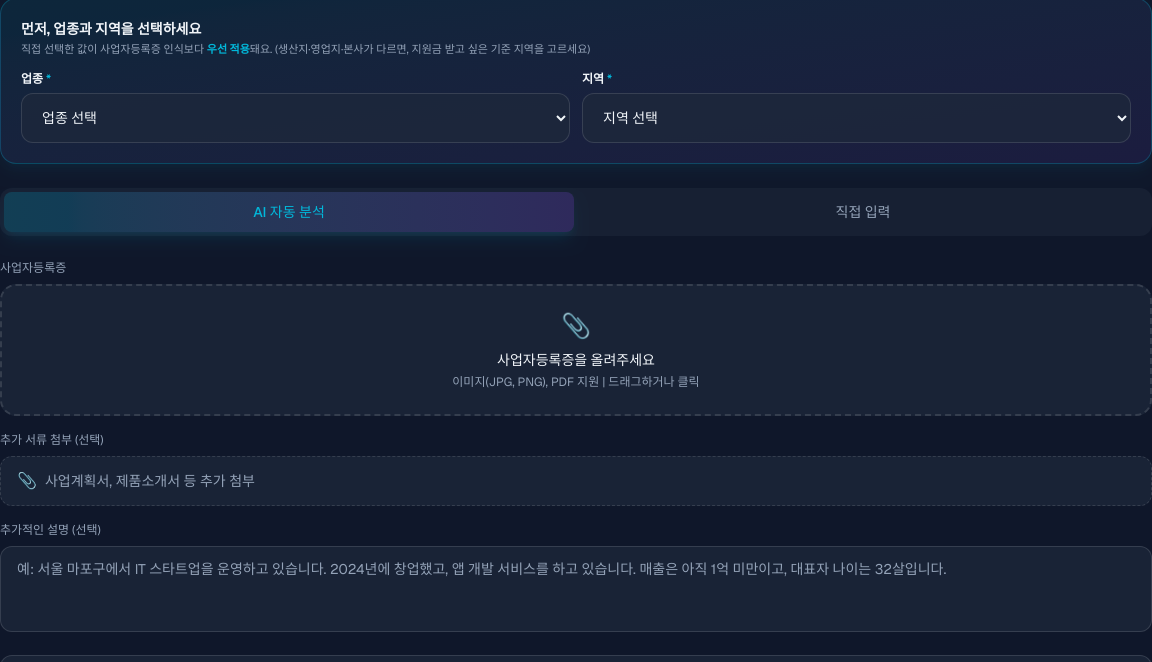
Scenario: ConditionForm: AI 분석 fetch › 분석 응답에 result 없으면 에러 메시지
Replace the text in the text box with placeholder "서울 마포구에서 IT 스타트업" with "테스트" at (576, 589), box [0,546,1151,632]
(page scrolled)
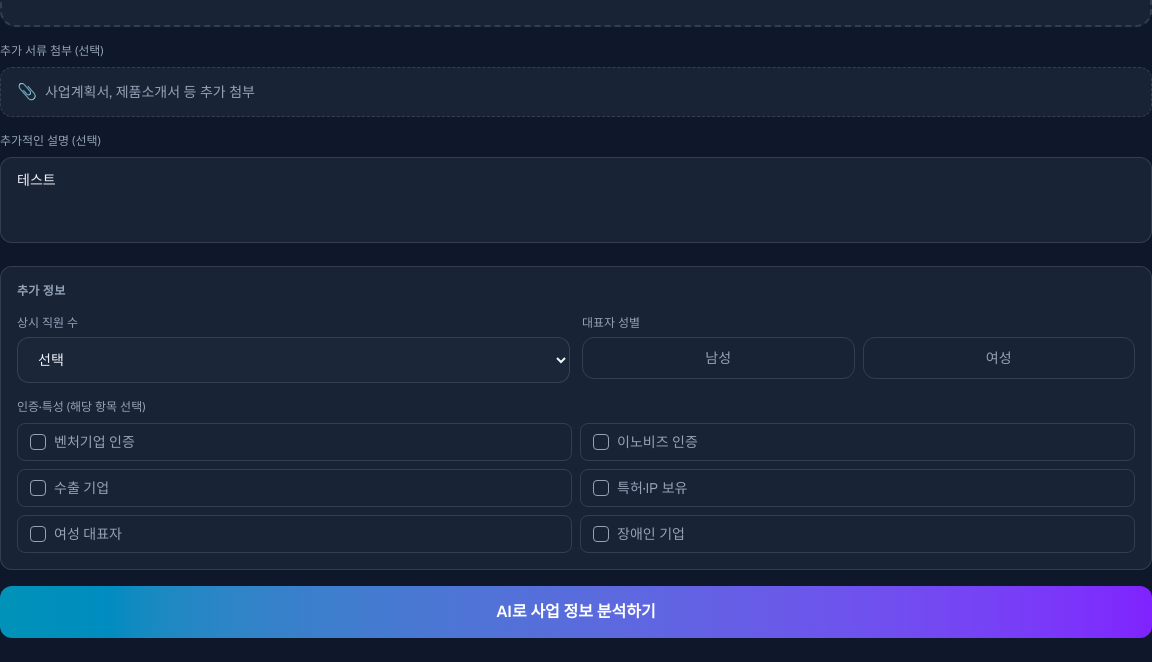
Click the button "AI로 사업 정보 분석하기".
click(576, 612)  # box [0,586,1151,638]
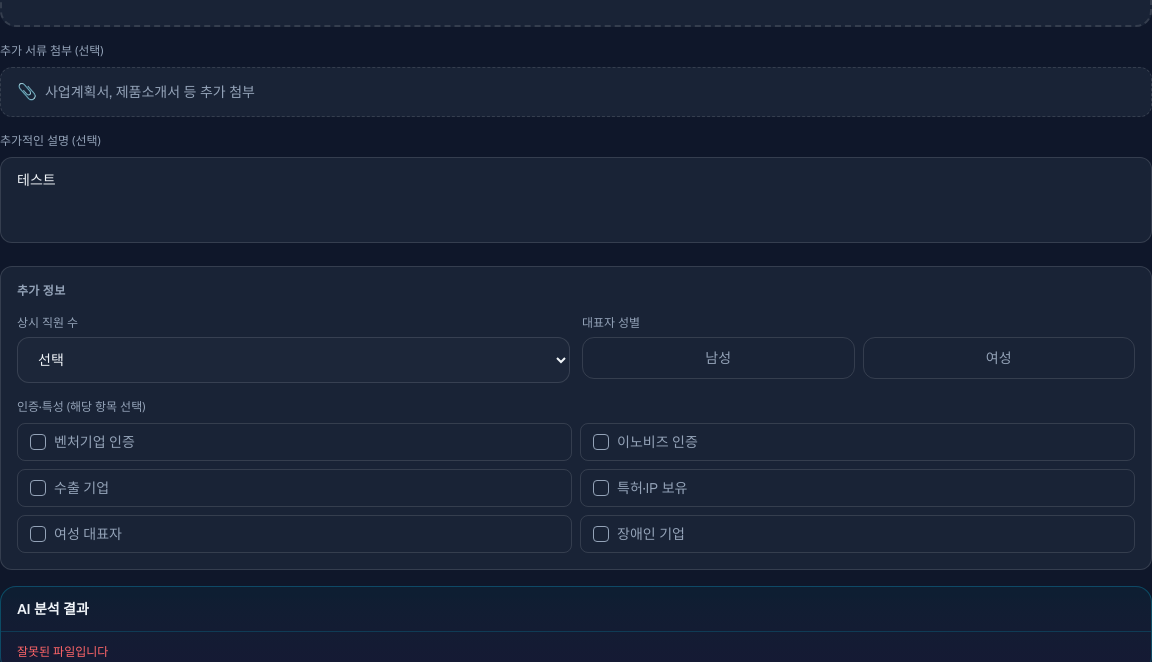
Now the text "잘못된 파일입니다" is shown, box [17,644,108,660]
